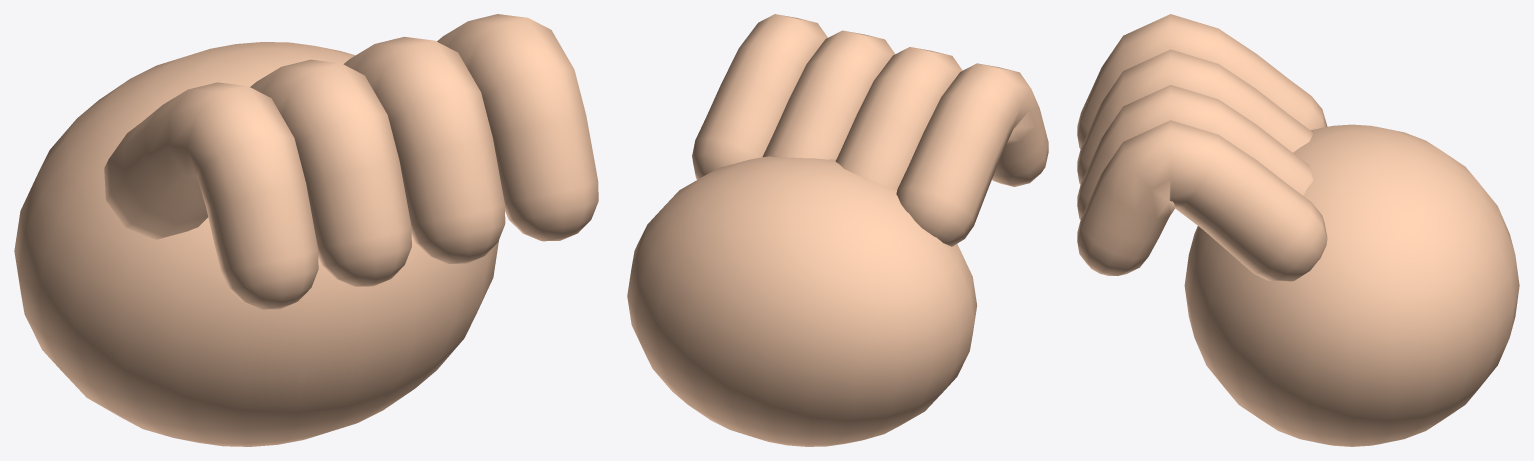
Rendered from icon_pickup.glb.
The picture shows the model from 3 angles, left to right: view 1: azimuth 30°, elevation 25°; view 2: azimuth 150°, elevation 25°; view 3: azimuth 270°, elevation 25°; orthographic projection. The views are drawn at different scales.
Parts seen in each view (by area): view 1: icon_pickup; view 2: icon_pickup; view 3: icon_pickup.
Part boxes in pixels (x1,y1,x2,y2): icon_pickup: (14,14,598,446); icon_pickup: (627,14,1048,446); icon_pickup: (1077,14,1519,446).
Size of the model in its own units: 0.28 by 0.2785 by 0.3168.
